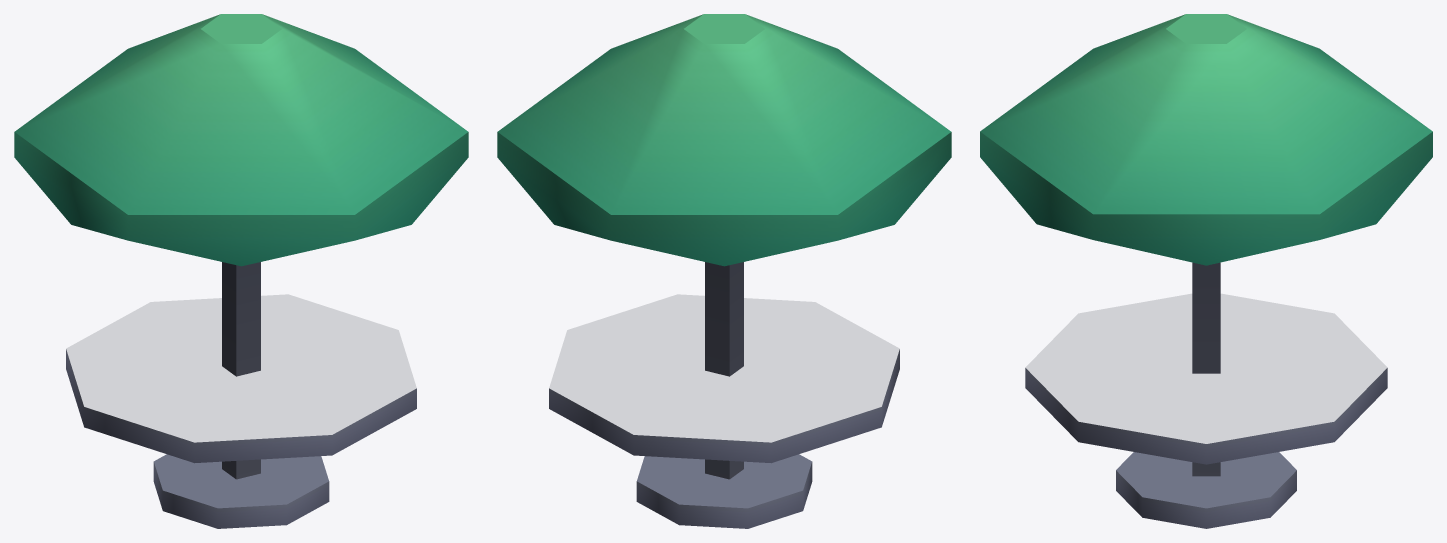
The picture shows the model from 3 angles, left to right: view 1: azimuth 30°, elevation 25°; view 2: azimuth 150°, elevation 25°; view 3: azimuth 270°, elevation 25°; orthographic projection.
Visible parts, largest first — view 1: detail-parasol-b; view 2: detail-parasol-b; view 3: detail-parasol-b.
Boxes of the visible parts, x1,y1,x2,y2 form: detail-parasol-b: [14, 14, 468, 528]; detail-parasol-b: [497, 14, 951, 528]; detail-parasol-b: [980, 14, 1432, 528].
Size of the model in its own units: 3.21 by 4.18 by 3.71.
1 material, 1 textured.
